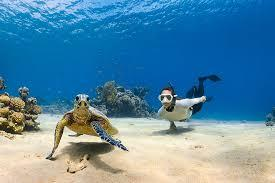Animal: (43, 91, 135, 162)
Person: (154, 71, 224, 134)
